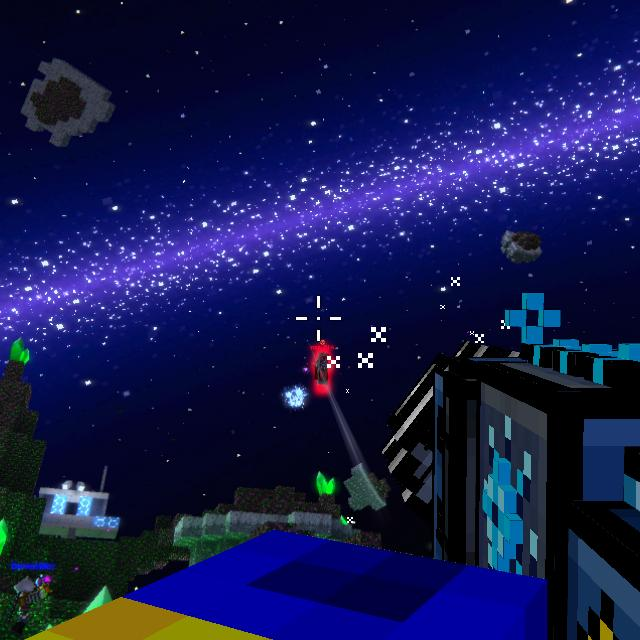Enemy: (313, 352, 332, 385)
